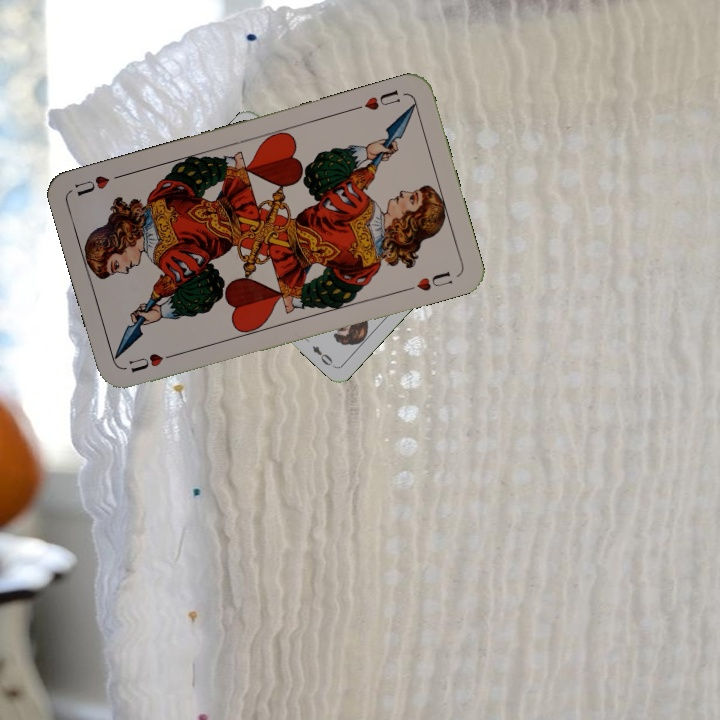HU: (125, 349, 180, 376), (349, 86, 403, 113)
